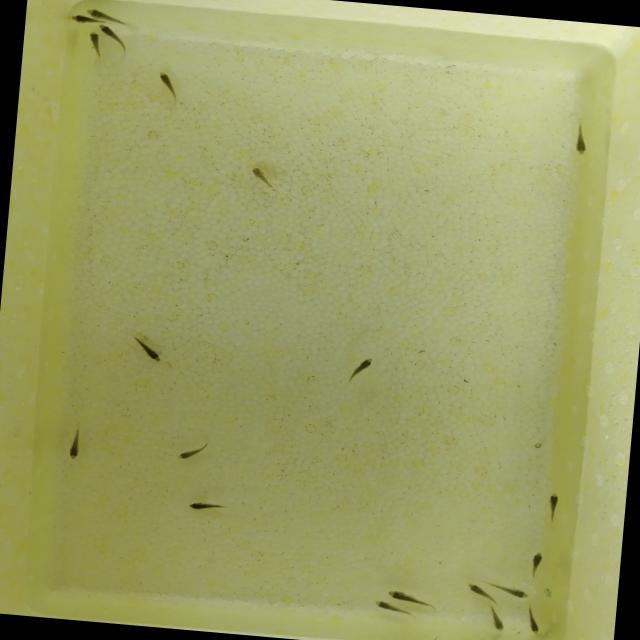fingerling: (131, 331, 167, 368), (387, 586, 442, 607), (180, 498, 236, 515), (245, 166, 284, 190), (373, 597, 412, 619), (541, 487, 564, 524), (348, 354, 376, 384), (64, 428, 90, 460), (174, 440, 208, 463), (498, 582, 536, 600), (154, 70, 178, 98), (570, 122, 588, 158), (522, 606, 542, 638), (488, 608, 512, 632), (98, 24, 126, 44), (527, 553, 546, 577), (460, 582, 488, 598), (86, 7, 119, 20), (84, 32, 104, 46), (72, 13, 94, 24)
